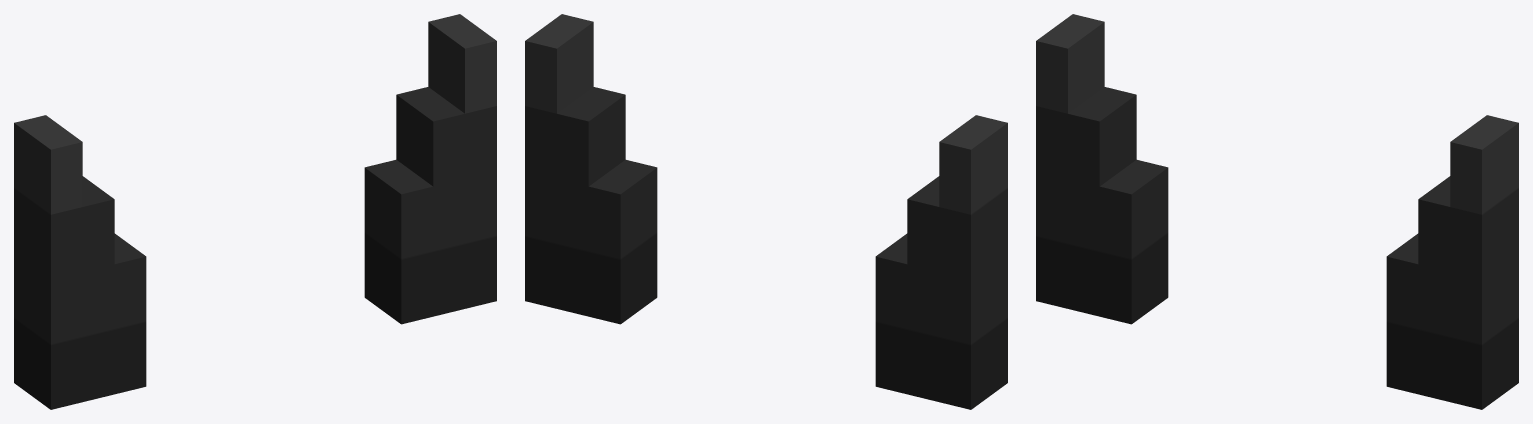
File: Accessories035.fbx
3 views of the same model, side by side, from view 1: azimuth 30°, elevation 25°; view 2: azimuth 150°, elevation 25°; view 3: azimuth 330°, elevation 25° (orthographic).
Visible parts, largest first — view 1: Accessories035; view 2: Accessories035; view 3: Accessories035.
Part boxes in pixels (x1,y1,x2,y2): Accessories035: (14,14,496,409); Accessories035: (525,14,1007,409); Accessories035: (1036,14,1518,409).
Size of the model in its own units: 14.35 by 8 by 2.05.
